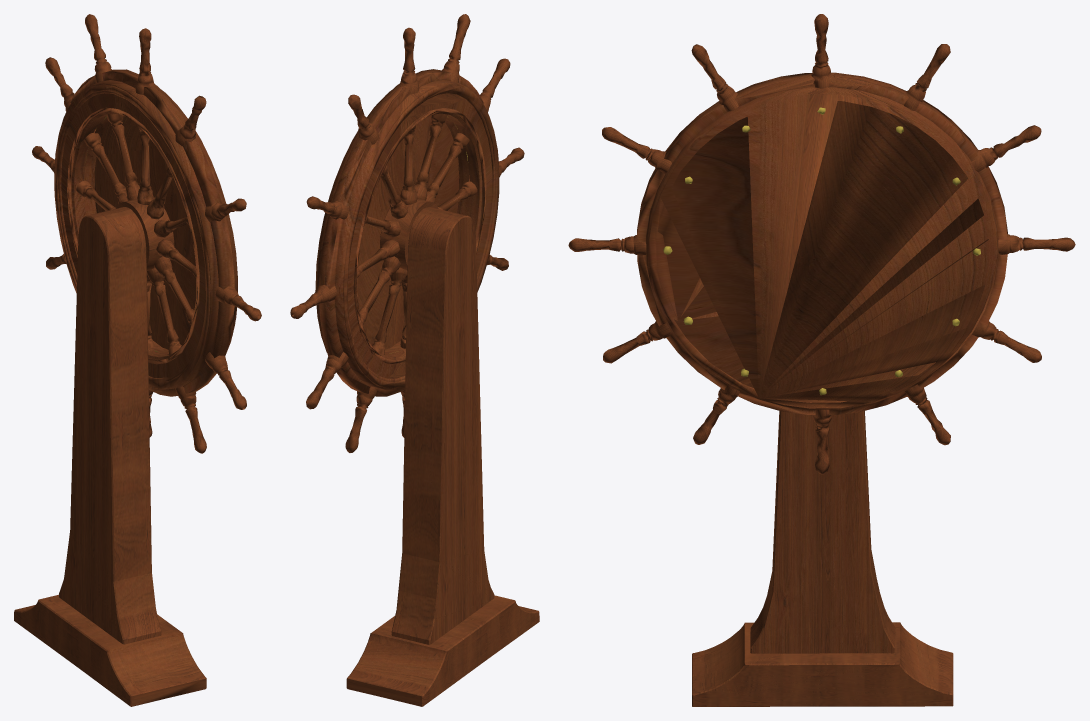
File: shturval_edit2.FBX
3 views of the same model, side by side, from view 1: azimuth 30°, elevation 25°; view 2: azimuth 150°, elevation 25°; view 3: azimuth 270°, elevation 25° (orthographic). The views are drawn at different scales.
Parts seen in each view (by area): view 1: Rectangle004, Circle002, Rectangle006, Line011, Line012, Line010, Line001, Line009, Line004, Line008, Cylinder001, Line006 (+2 smaller); view 2: Rectangle004, Circle002, Rectangle006, Line003, Line004, Line001, Line005, Line006, Line011, Line007, Cylinder001, Line009 (+2 smaller); view 3: Circle002, Rectangle004, Rectangle006, Line007, Line009, Line006, Line008, Line001, Line004, Line011, Line005, Line010 (+3 smaller).
Boxes of the visible parts, x1,y1,x2,y2 form: Rectangle004: (59,207,161,644); Circle002: (54,69,237,396); Rectangle006: (14,594,206,706); Line011: (85,14,139,200); Line012: (146,268,206,453); Line010: (154,256,246,409); Line001: (135,28,154,205); Line009: (45,57,127,203); Line004: (147,95,206,219); Line008: (156,239,261,321); Cylinder001: (116,197,174,270); Line006: (154,198,246,237); Rectangle004: (391,207,494,644); Circle002: (315,69,499,396); Rectangle006: (346,595,539,706); Line003: (345,267,407,452); Line004: (414,14,470,200); Line001: (400,27,419,204); Line005: (306,256,400,409); Line006: (426,58,510,202); Line011: (348,94,407,219); Line007: (290,239,400,318); Cylinder001: (380,199,438,270); Line009: (306,196,401,237); Circle002: (637,72,1007,414); Rectangle004: (750,411,895,653); Rectangle006: (692,622,953,706); Line007: (998,234,1075,254); Line009: (971,125,1041,171); Line006: (602,127,671,173); Line008: (568,235,646,255); Line001: (811,14,831,88); Line004: (691,44,738,111); Line011: (904,44,950,110); Line005: (971,321,1041,362); Line010: (603,321,672,363).
Size of the model in its own units: 31.43 by 205 by 136.
